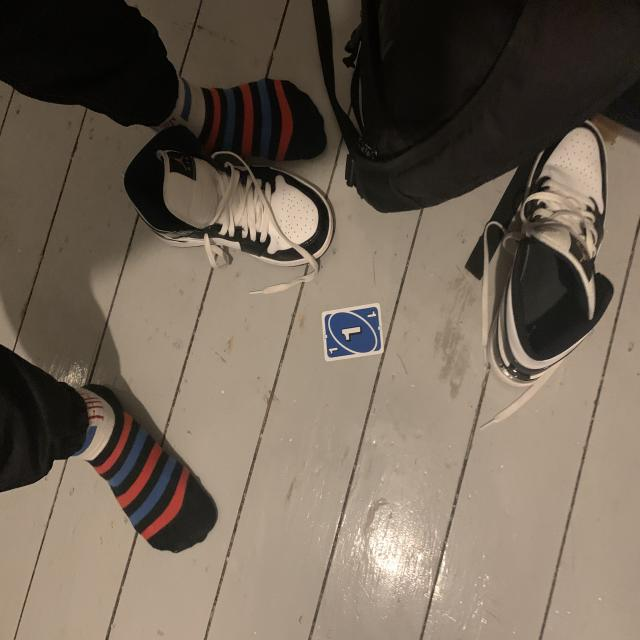lblue-1: (365, 307, 378, 321)
